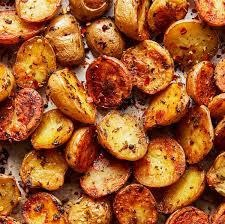apricot: (0, 0, 225, 224)
grapes: (0, 0, 225, 224)
kiwi: (0, 0, 225, 224)
melon: (0, 0, 225, 224)
potato: (0, 0, 225, 224)
